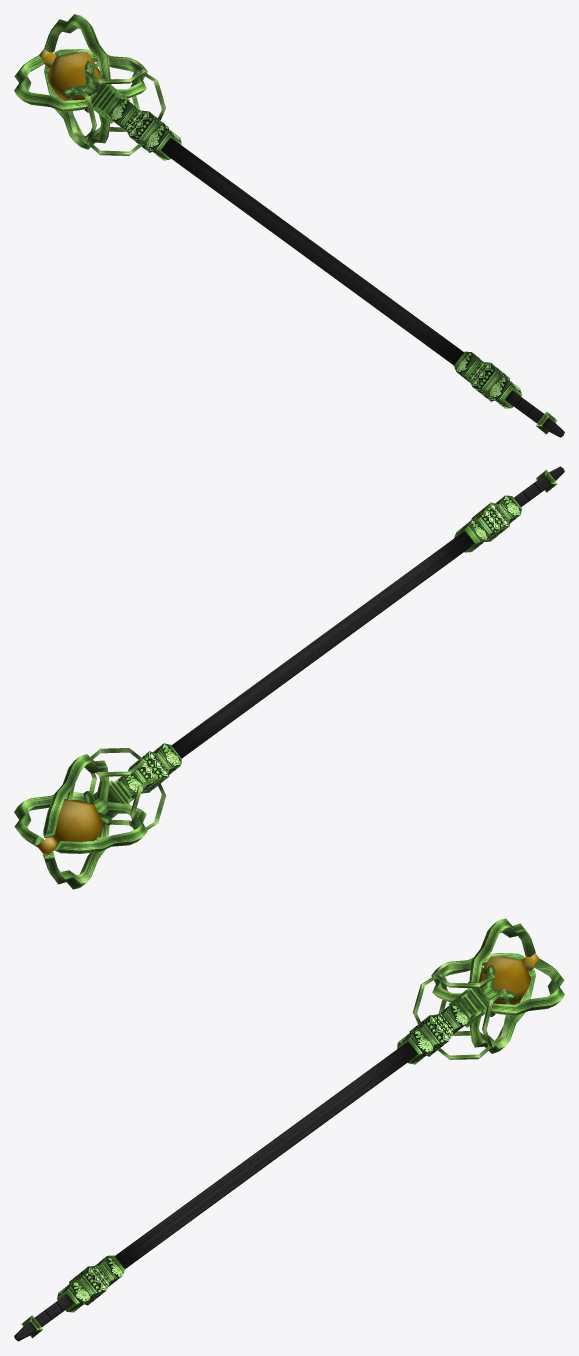
File: wand_wand_v_wand_v.glb
The picture shows the model from 3 angles, top to bottom: view 1: azimuth 30°, elevation 25°; view 2: azimuth 150°, elevation 25°; view 3: azimuth 330°, elevation 25°; orthographic projection.
Size of the model in its own units: 0.2537 by 0.2537 by 1.82.
Materials: 1 (1 with a texture image).
